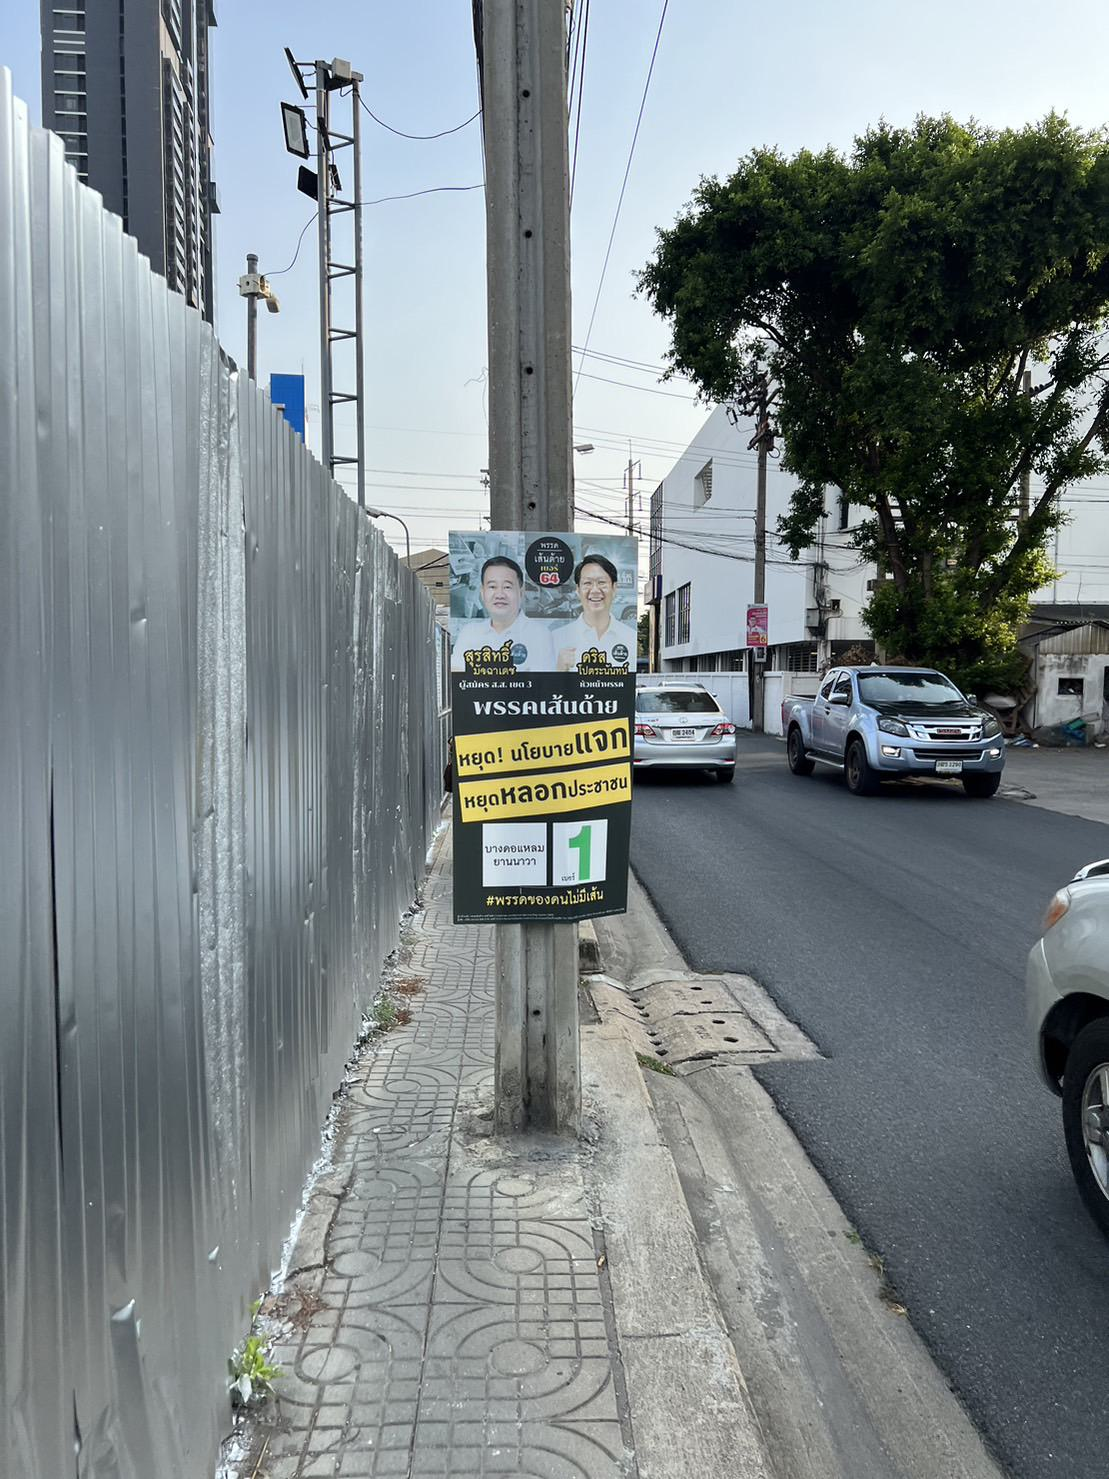Banner: (451, 529, 642, 915)
